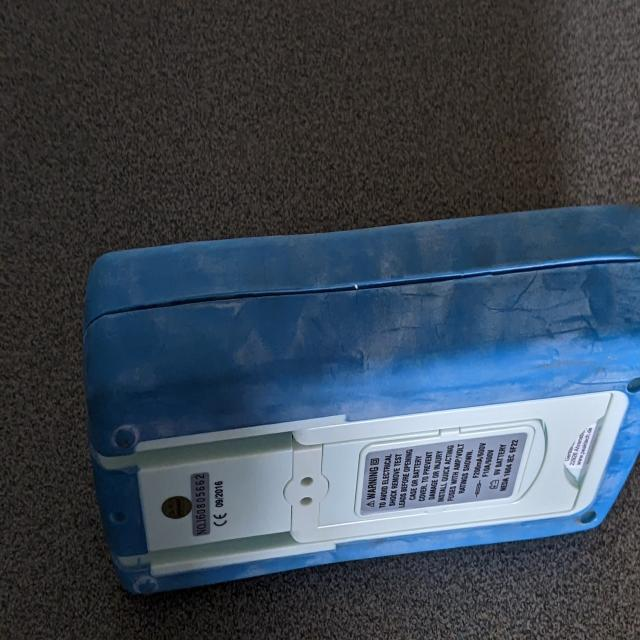Digital Multimeter: (68, 199, 640, 598)
